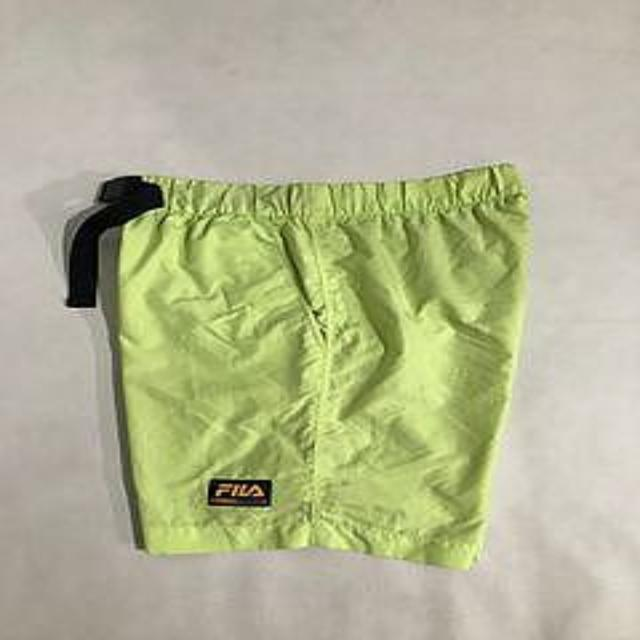SHORT: (52, 146, 543, 575)
